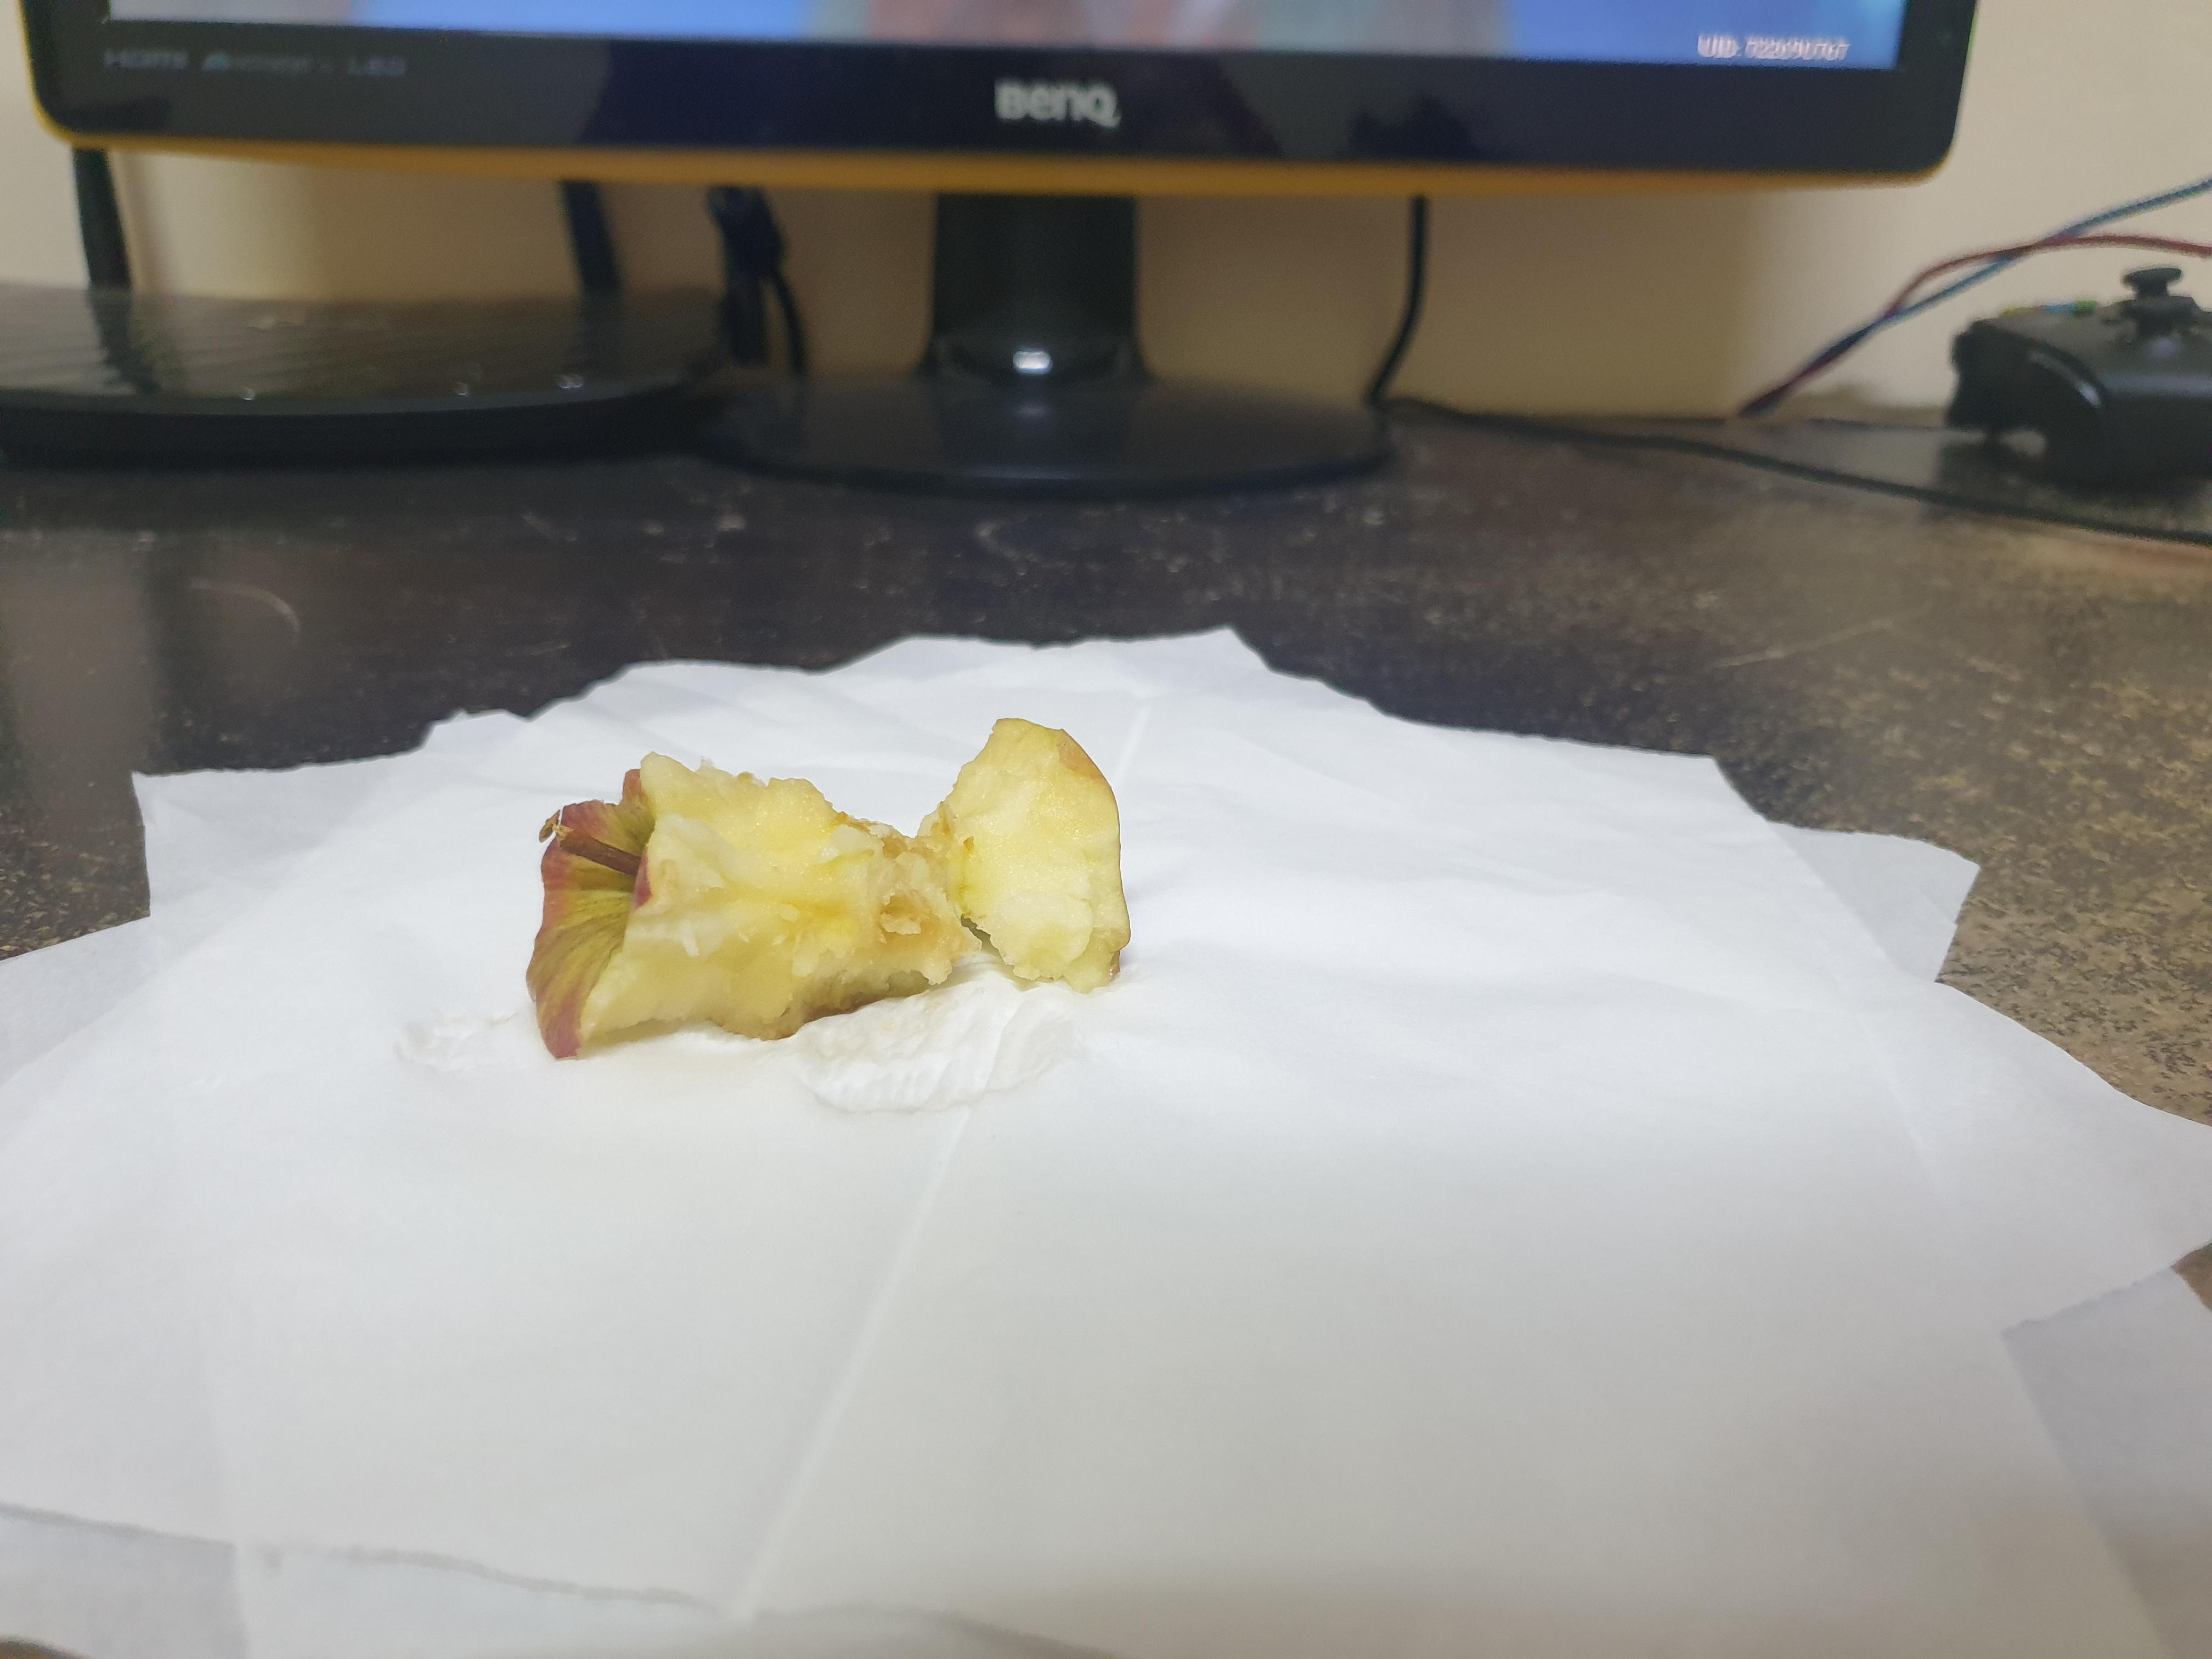Apple: (482, 697, 1167, 1108)
